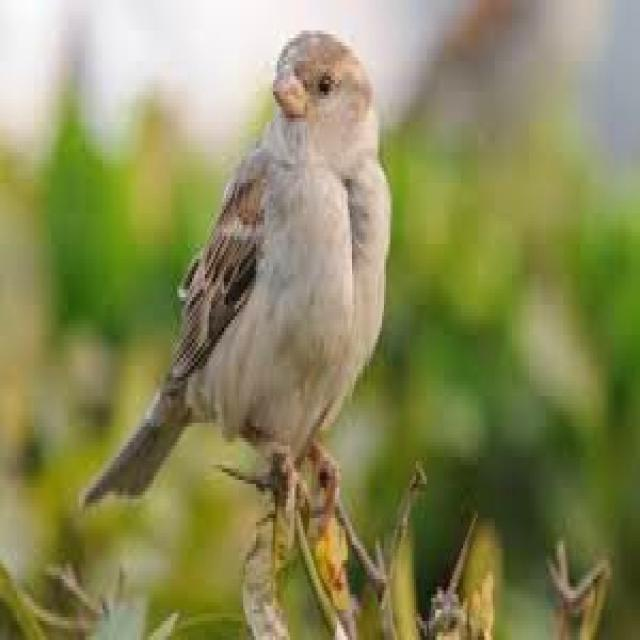sparrow: (85, 30, 390, 514)
